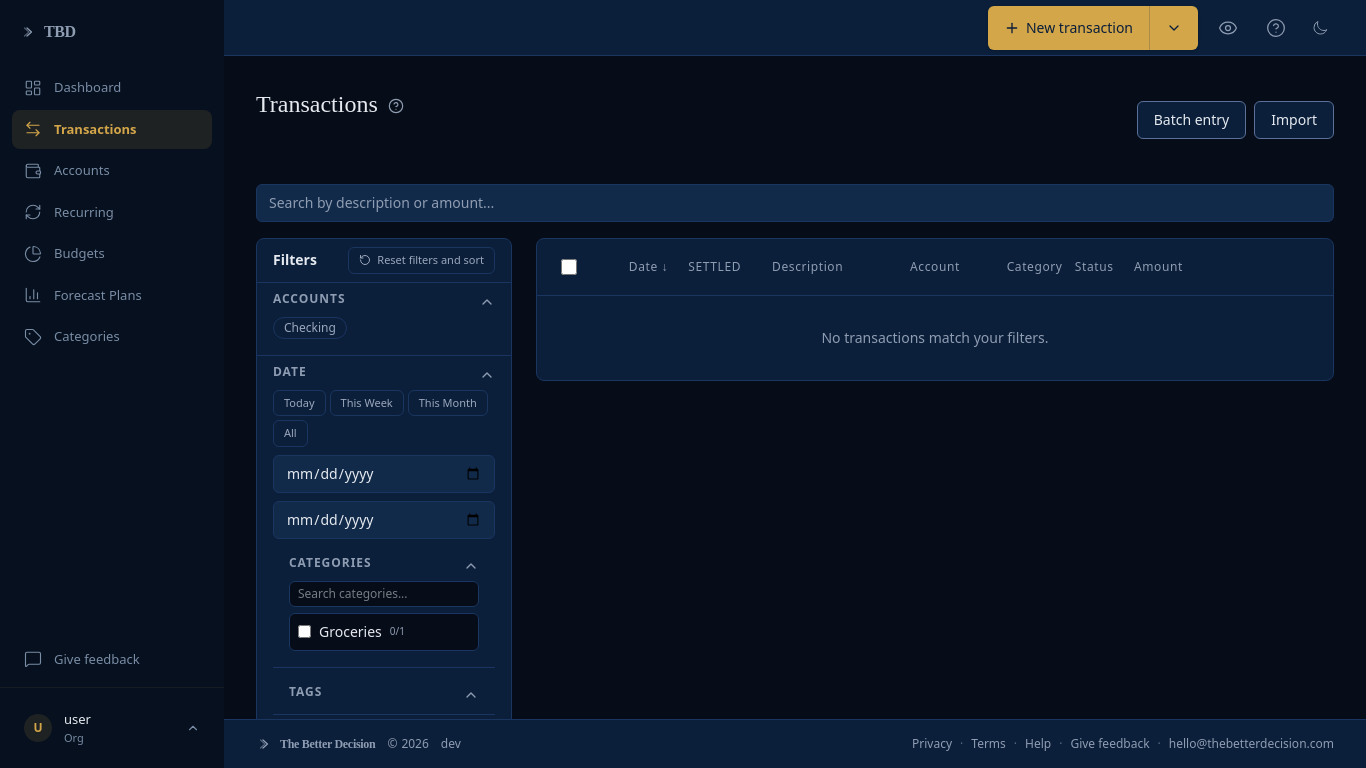
Test: TransactionsPage - persisted sort and filters (item 6) › Reset clears persisted filters too
The width and height of the screenshot is (1366, 768).
What coordinates should you click on to do the following:
click the button with test id "reset-sort-filters"
I would click on:
 (422, 260)
Its box is [348,247,495,274].
(page scrolled)
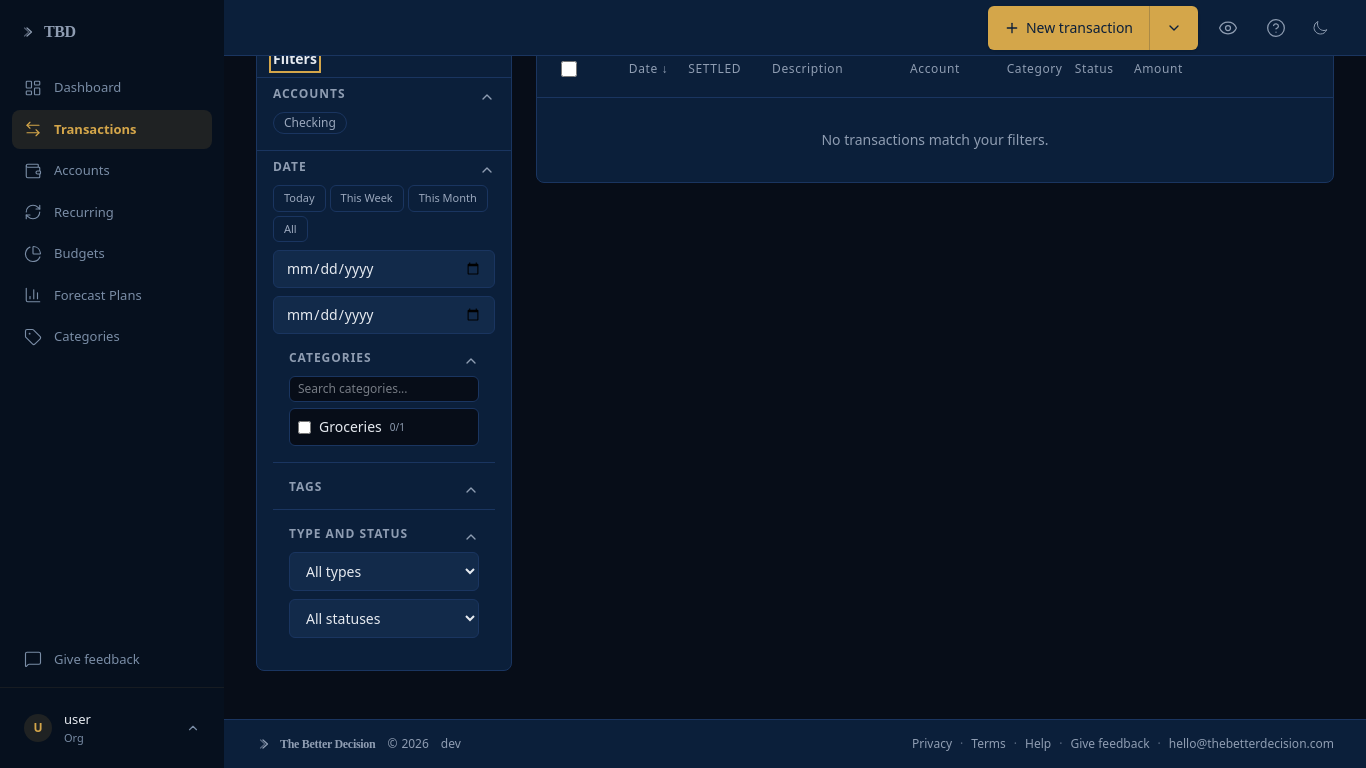
Result: the 1st dropdown named "Filter by type" shows "All types" at [289,552,479,591]
